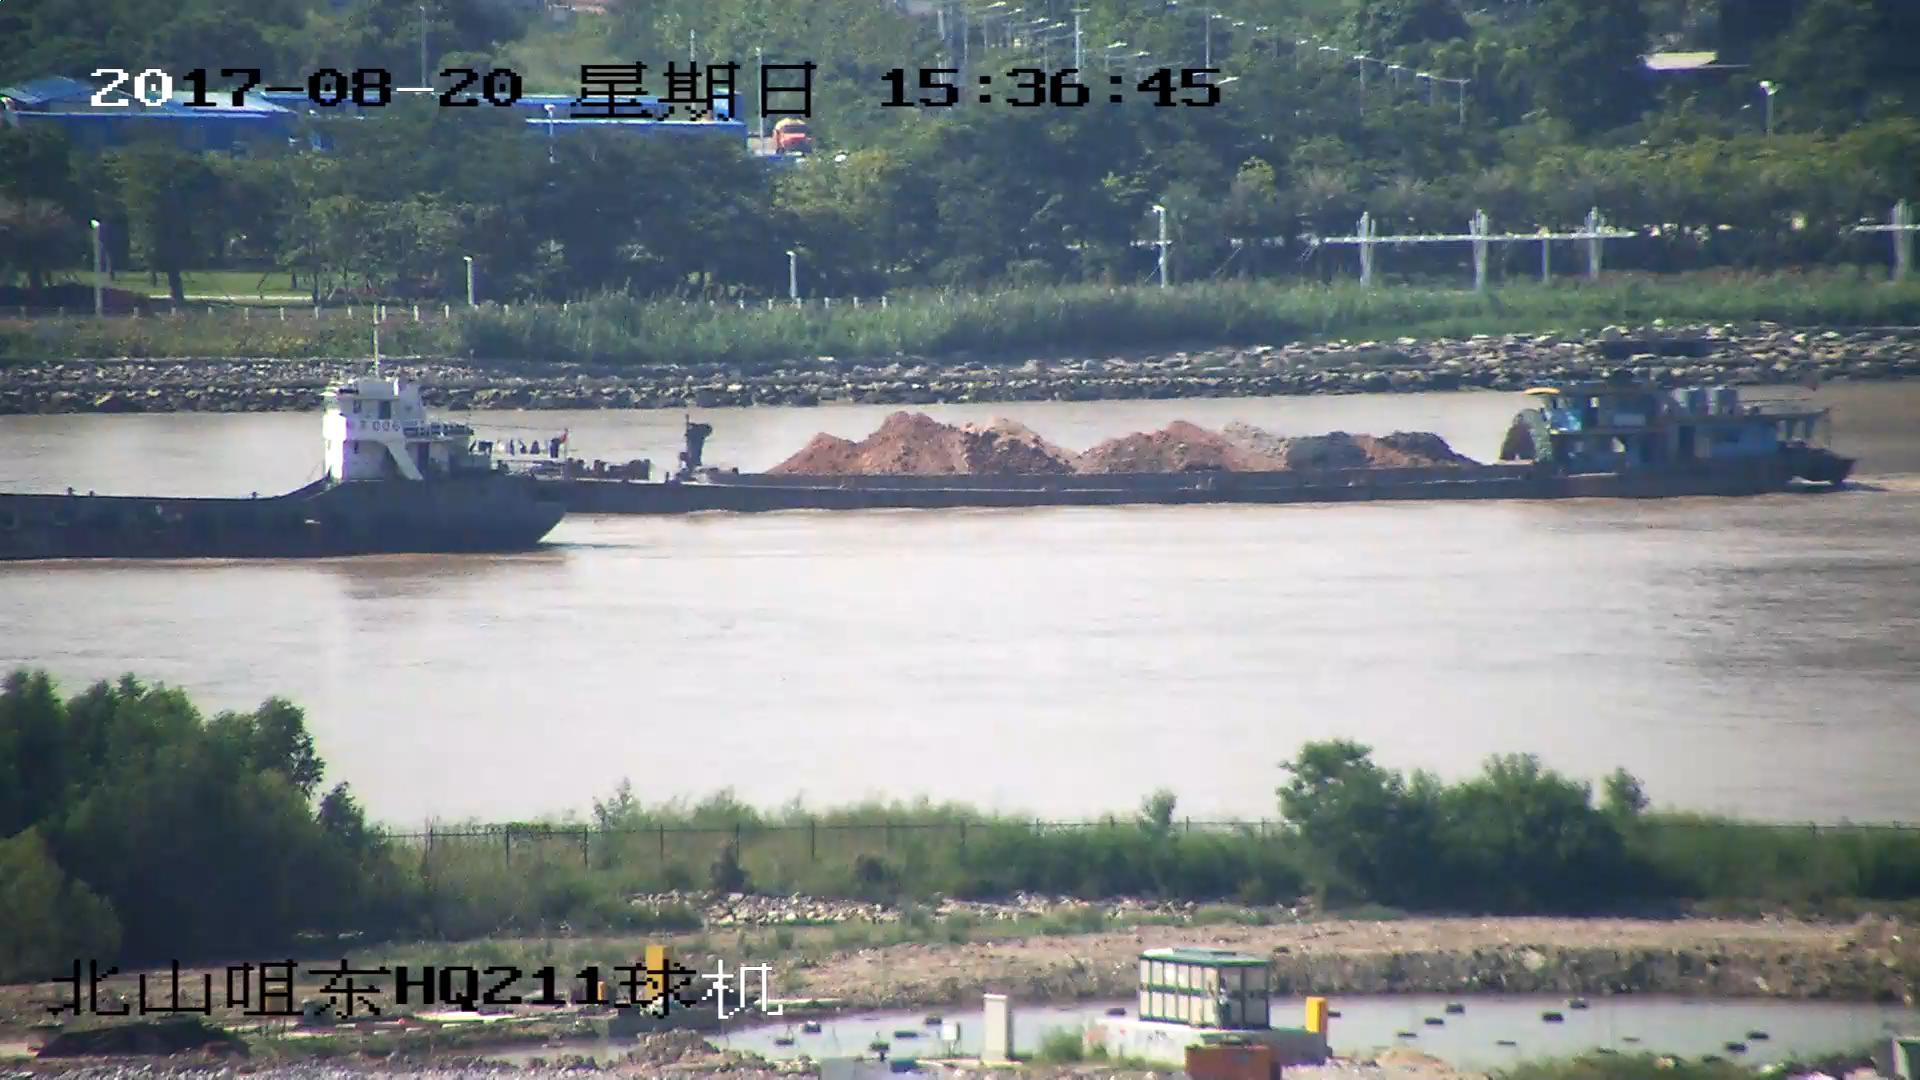Ship: (475, 340, 1859, 508), (3, 311, 582, 564)
